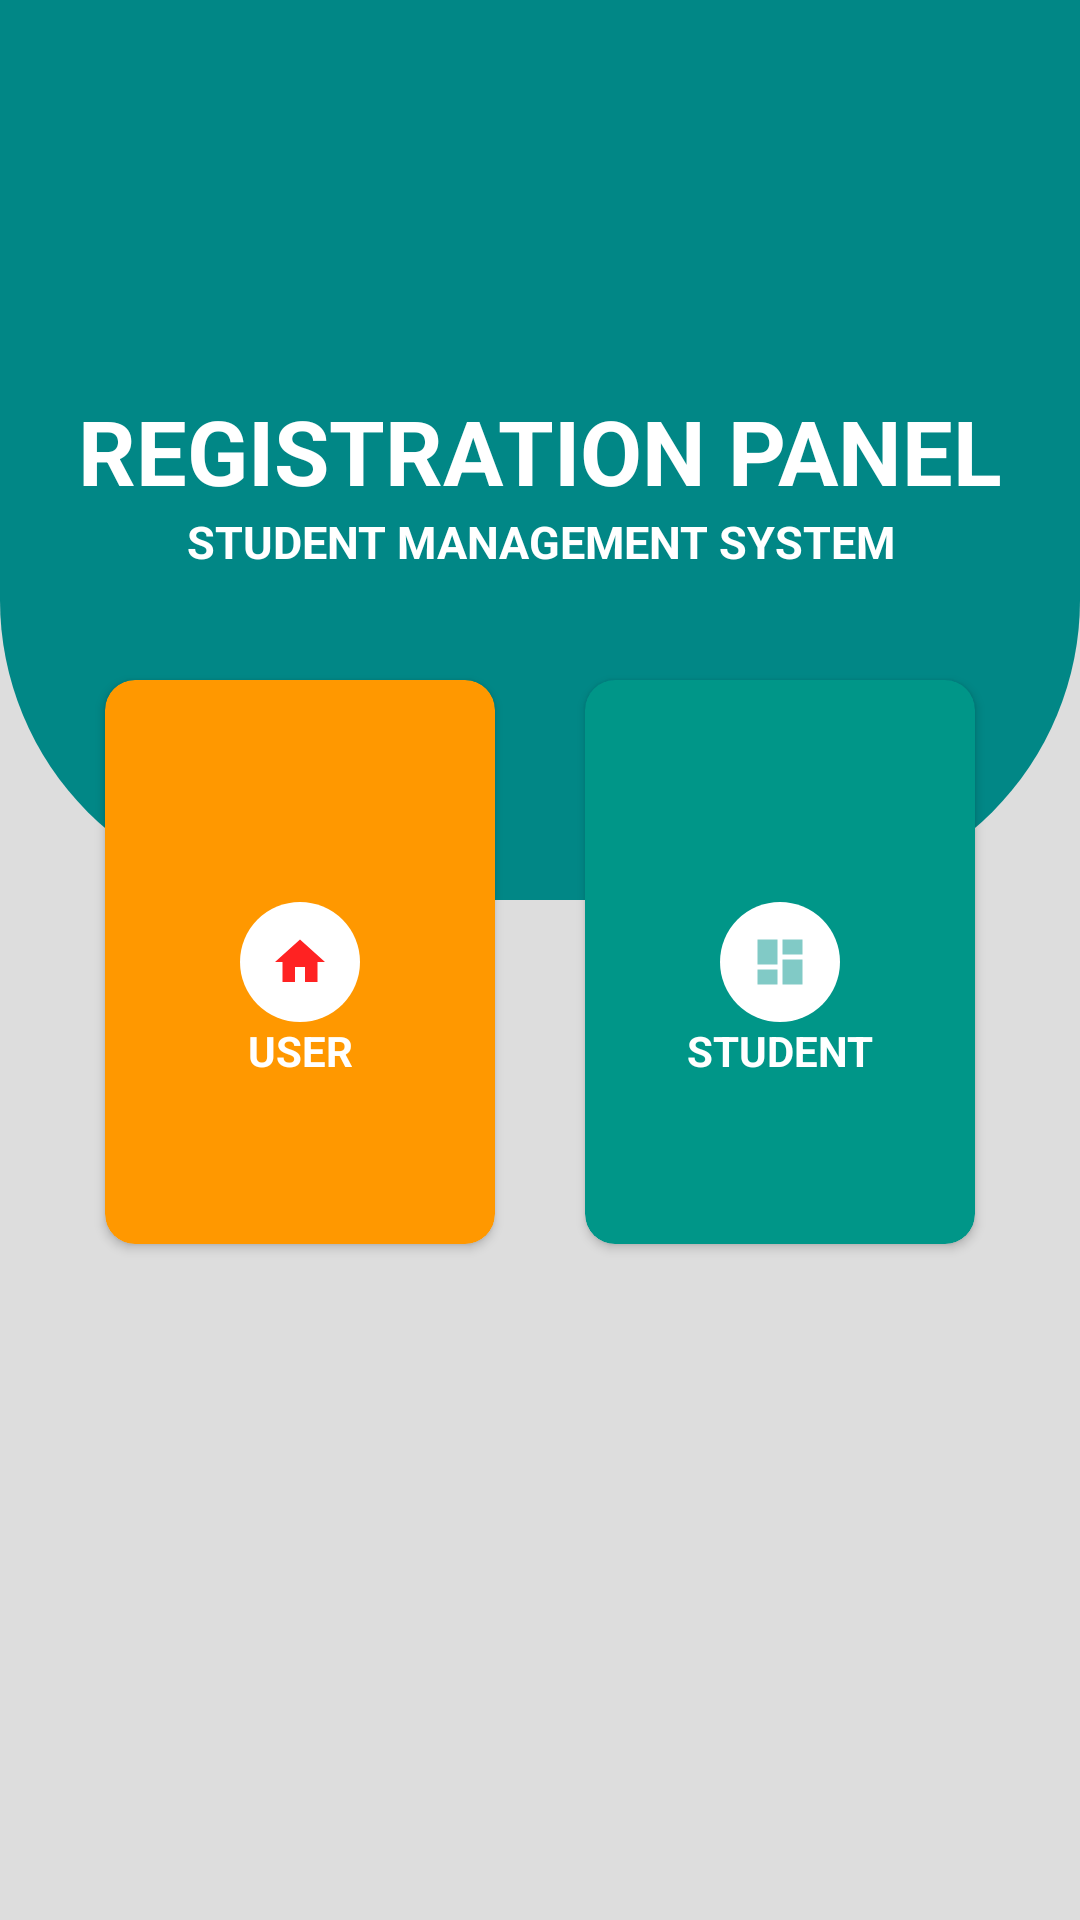

Icon click points for this 1080w x 1920h phone screenshot, format (x=x, y=y):
dashboard: (x=780, y=962)
home: (x=300, y=962)
